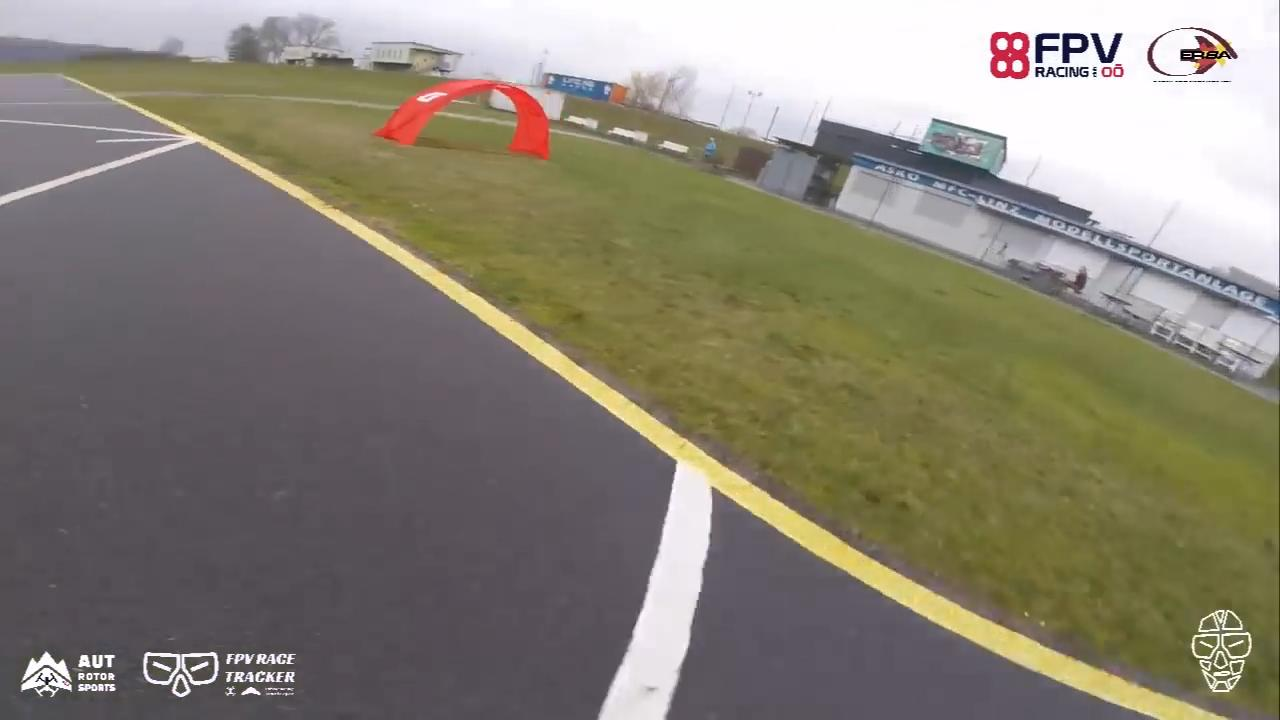gate: (371, 77, 552, 167)
